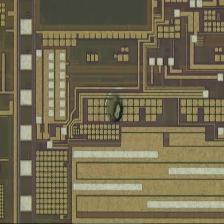PARTICLE: (106, 91, 127, 122)
